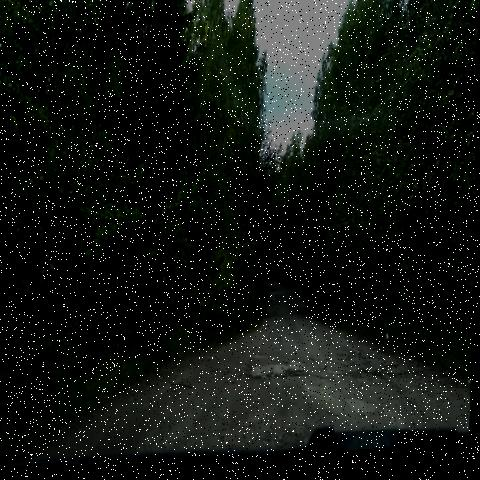pothole: (213, 407, 331, 466), (201, 341, 321, 397), (323, 329, 396, 409)
